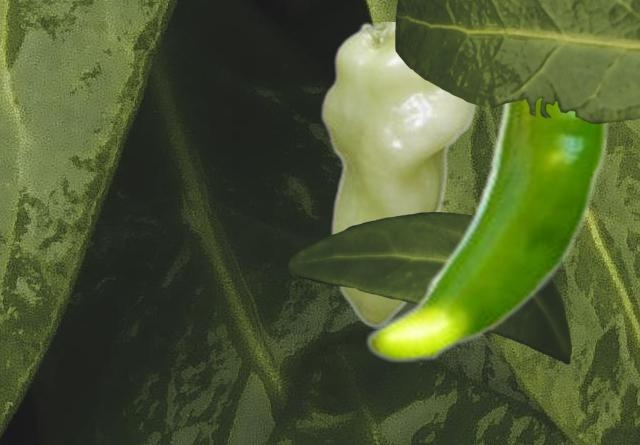green_chili: (364, 99, 609, 363), (317, 22, 475, 327)
